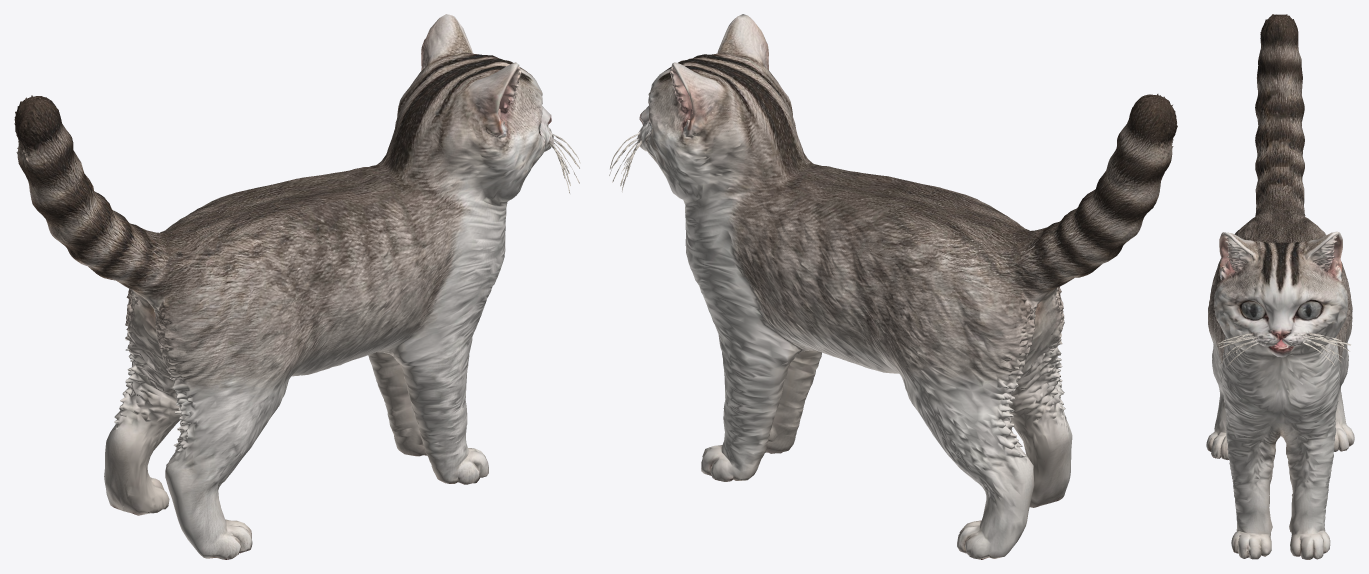
The model's file is NYAZCATS.glb.
3 renders of one model, left to right at view 1: azimuth 30°, elevation 25°; view 2: azimuth 150°, elevation 25°; view 3: azimuth 270°, elevation 25°, orthographic. The views are drawn at different scales.
Parts seen in each view (by area): view 1: tripo_node_7ea8e7d7-21b1-432a-8deb-6d2066e447f9; view 2: tripo_node_7ea8e7d7-21b1-432a-8deb-6d2066e447f9; view 3: tripo_node_7ea8e7d7-21b1-432a-8deb-6d2066e447f9.
Part boxes in pixels (left/top/right/bottom): tripo_node_7ea8e7d7-21b1-432a-8deb-6d2066e447f9: left=14, top=14, right=580, bottom=559; tripo_node_7ea8e7d7-21b1-432a-8deb-6d2066e447f9: left=609, top=14, right=1177, bottom=559; tripo_node_7ea8e7d7-21b1-432a-8deb-6d2066e447f9: left=1206, top=14, right=1354, bottom=559.
Size of the model in its own units: 1.2 by 0.9997 by 0.3573.
1 material, 1 textured.
